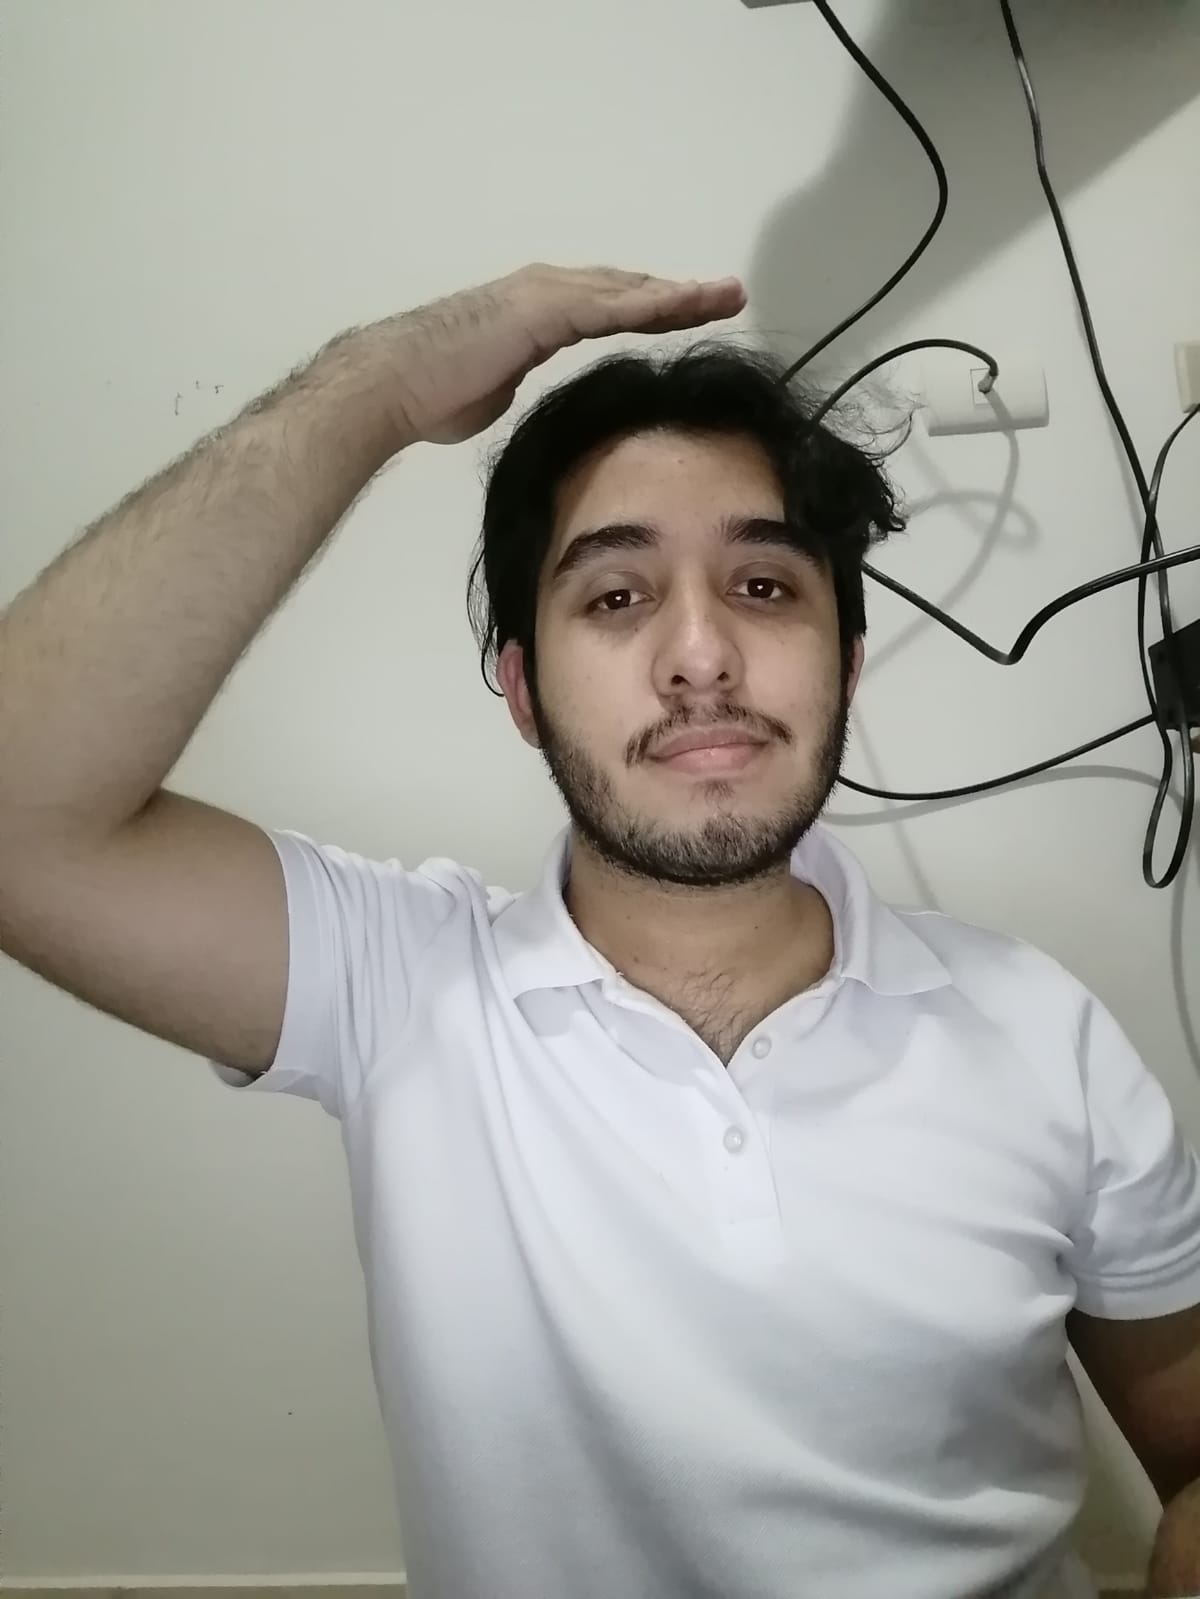Hat: (267, 255, 776, 451)
